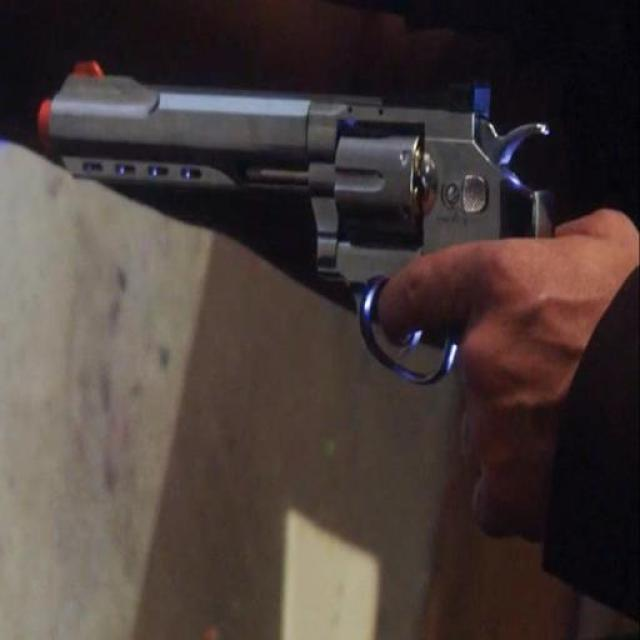pistol: (35, 60, 556, 384)
